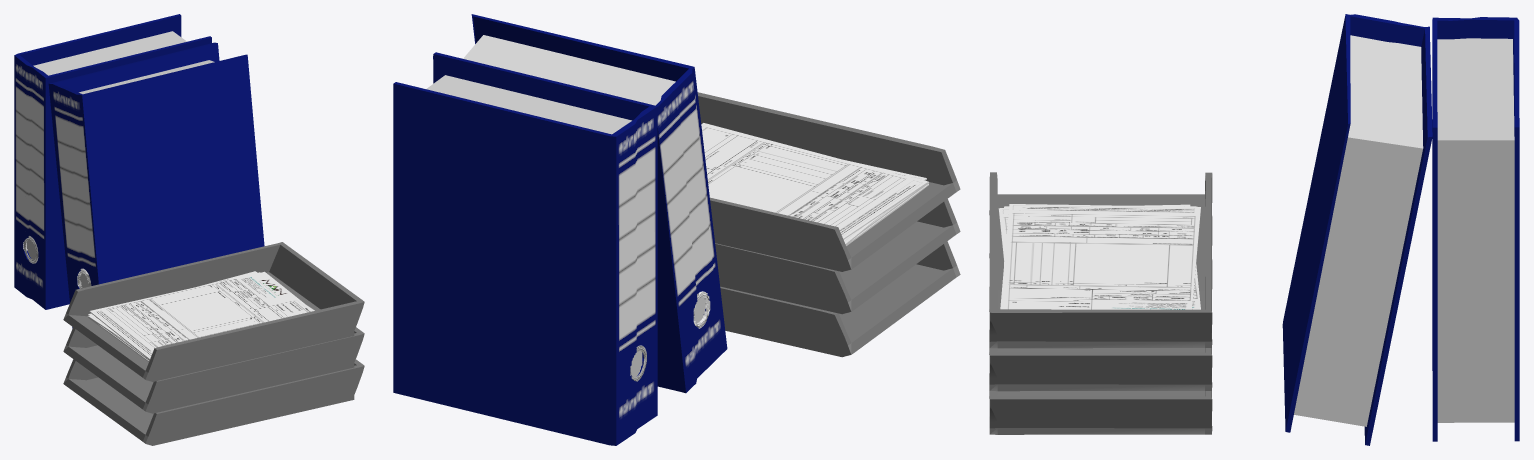
File: paretevetrataamministazione2.gltf
The picture shows the model from 3 angles, left to right: view 1: azimuth 30°, elevation 25°; view 2: azimuth 150°, elevation 25°; view 3: azimuth 270°, elevation 25°; orthographic projection. The views are drawn at different scales.
Visible parts, largest first — view 1: Fattura 3; view 2: Fattura 3; view 3: Fattura 3.
Boxes of the visible parts, bbox=[...] form: Fattura 3: bbox=[14, 14, 364, 445]; Fattura 3: bbox=[393, 14, 960, 445]; Fattura 3: bbox=[989, 14, 1519, 445].
Bounding box in the file's own units: 0.4236 × 0.4178 × 0.6121.
Materials: 5 (2 with a texture image).
